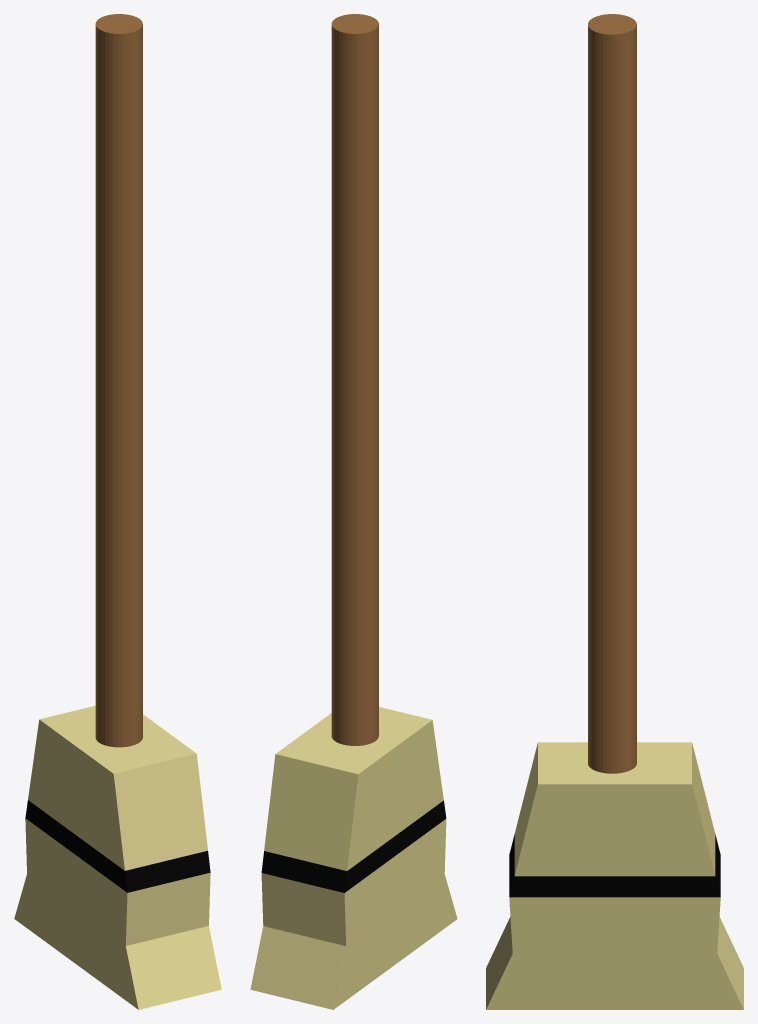
The model's file is ENVIRONMENT_OFFICE_SAPU.fbx.
3 renders of one model, left to right at view 1: azimuth 30°, elevation 25°; view 2: azimuth 150°, elevation 25°; view 3: azimuth 270°, elevation 25°, orthographic. The views are drawn at different scales.
Visible parts, largest first — view 1: Cylinder.056; view 2: Cylinder.056; view 3: Cylinder.056.
Part boxes in pixels (x1,y1,x2,y2): Cylinder.056: (14, 14, 221, 1009); Cylinder.056: (250, 14, 457, 1009); Cylinder.056: (486, 14, 743, 1009).
Bounding box in the file's own units: 16.93 × 181 × 43.9.
